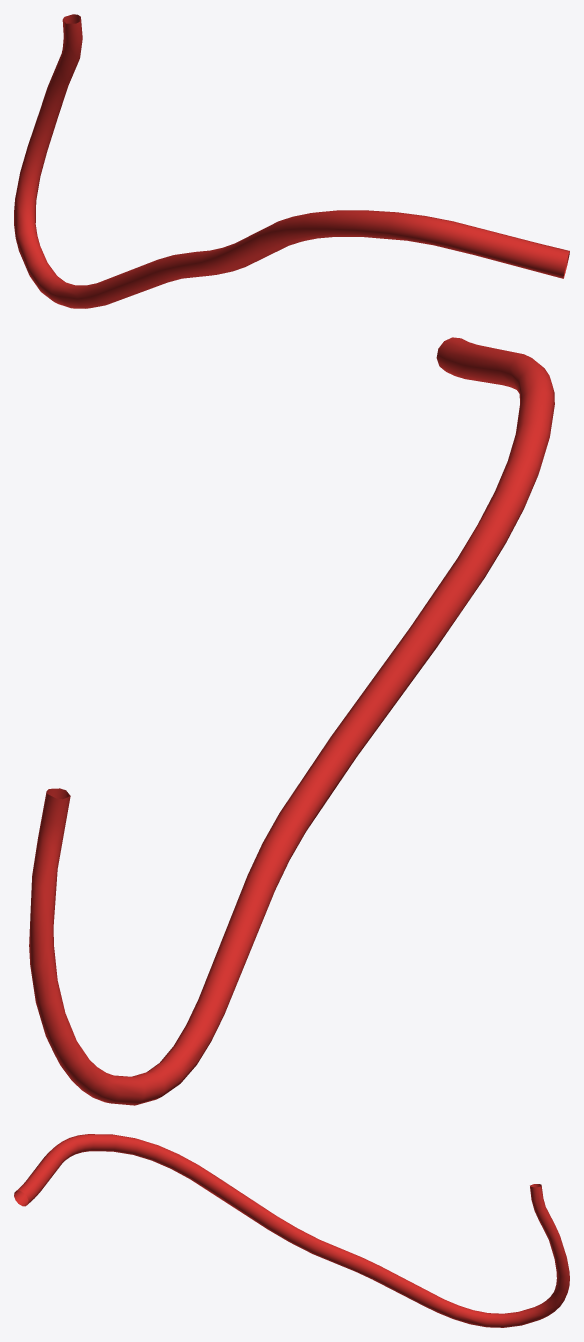
Rendered from circulatorio-circumflex-scapular-vein-r.glb.
3 views of the same model, one above another, from view 1: azimuth 30°, elevation 25°; view 2: azimuth 150°, elevation 25°; view 3: azimuth 270°, elevation 25° (orthographic). The views are drawn at different scales.
Parts seen in each view (by area): view 1: Circumflex scapular vein.r; view 2: Circumflex scapular vein.r; view 3: Circumflex scapular vein.r.
Part boxes in pixels (x1=…): Circumflex scapular vein.r: x1=14, y1=14, x2=569, y2=308; Circumflex scapular vein.r: x1=29, y1=337, x2=554, y2=1105; Circumflex scapular vein.r: x1=14, y1=1134, x2=569, y2=1327.
Bounding box in the file's own units: 0.0122 × 0.0217 × 0.0542.
